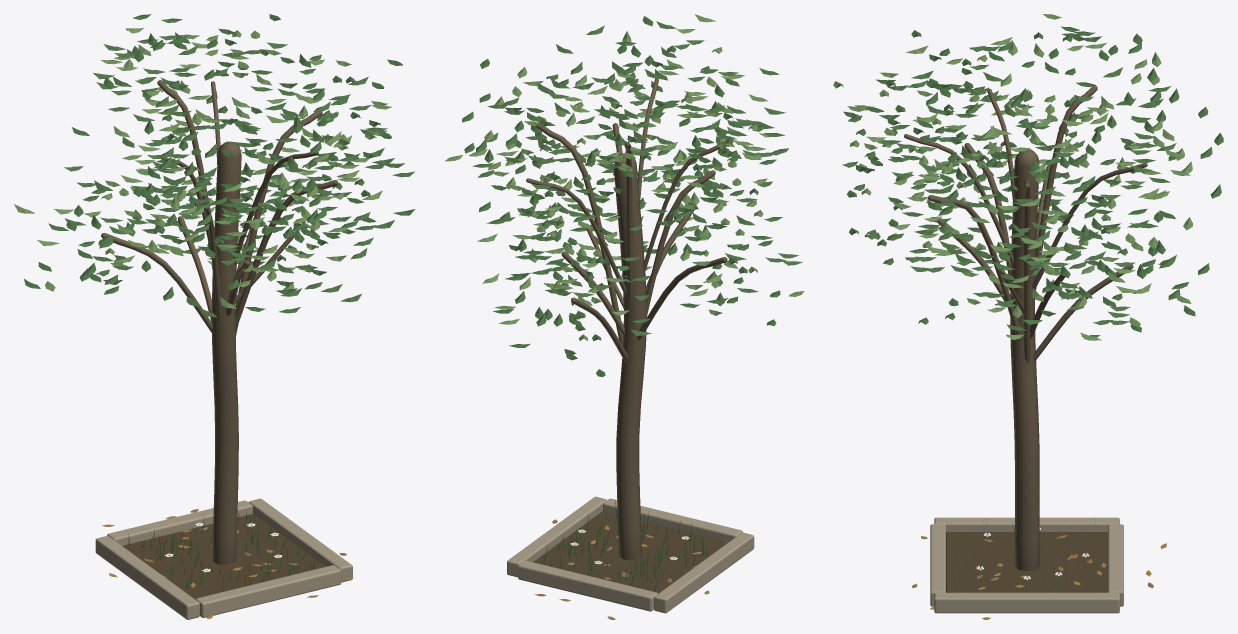
The model's file is tree_2.glb.
3 views of the same model, side by side, from view 1: azimuth 30°, elevation 25°; view 2: azimuth 150°, elevation 25°; view 3: azimuth 270°, elevation 25° (orthographic). The views are drawn at different scales.
Visible parts, largest first — view 1: Trunk, Soil, Hollow_pit_border.003, Hollow_pit_border, Hollow_pit_border.001, Hollow_pit_border.002, Tapered_branch.003, Tapered_branch, Tapered_branch.004, Tapered_branch.001, Tapered_branch.011, Tapered_branch.007 (+1 smaller); view 2: Trunk, Soil, Hollow_pit_border.002, Hollow_pit_border, Hollow_pit_border.001, Hollow_pit_border.003, Tapered_branch, Tapered_branch.001, Tapered_branch.007, Tapered_branch.010, Tapered_branch.004, Tapered_branch.009 (+2 smaller); view 3: Soil, Trunk, Hollow_pit_border.001, Hollow_pit_border, Hollow_pit_border.003, Hollow_pit_border.002, Tapered_branch, Tapered_branch.007, Tapered_branch.003, Tapered_branch.011, Tapered_branch.010, Tapered_branch.002 (+1 smaller).
Part boxes in pixels (left/top/right/bottom): Trunk: left=211, top=141, right=241, bottom=564; Soil: left=122, top=514, right=325, bottom=599; Hollow_pit_border.003: left=195, top=565, right=341, bottom=617; Hollow_pit_border: left=95, top=536, right=199, bottom=619; Hollow_pit_border.001: left=248, top=498, right=352, bottom=582; Hollow_pit_border.002: left=107, top=500, right=252, bottom=545; Tapered_branch.003: left=235, top=180, right=338, bottom=330; Tapered_branch: left=235, top=111, right=322, bottom=336; Tapered_branch.004: left=101, top=233, right=212, bottom=333; Tapered_branch.001: left=195, top=203, right=221, bottom=321; Tapered_branch.011: left=233, top=151, right=318, bottom=264; Tapered_branch.007: left=157, top=80, right=211, bottom=259; Trunk: left=614, top=153, right=646, bottom=560; Soil: left=533, top=511, right=728, bottom=593; Hollow_pit_border.002: left=518, top=560, right=657, bottom=611; Hollow_pit_border: left=654, top=532, right=754, bottom=613; Hollow_pit_border.001: left=507, top=496, right=606, bottom=577; Hollow_pit_border.003: left=603, top=498, right=742, bottom=541; Tapered_branch: left=536, top=124, right=623, bottom=345; Tapered_branch.001: left=646, top=170, right=715, bottom=317; Tapered_branch.007: left=624, top=142, right=632, bottom=302; Tapered_branch.010: left=526, top=178, right=626, bottom=295; Tapered_branch.004: left=637, top=257, right=727, bottom=339; Tapered_branch.009: left=643, top=142, right=725, bottom=274; Soil: left=946, top=532, right=1107, bottom=592; Trunk: left=1010, top=149, right=1039, bottom=571; Hollow_pit_border.001: left=934, top=592, right=1119, bottom=613; Hollow_pit_border: left=934, top=517, right=1119, bottom=532; Hollow_pit_border.003: left=930, top=524, right=945, bottom=606; Hollow_pit_border.002: left=1108, top=524, right=1123, bottom=606; Tapered_branch: left=1024, top=179, right=1030, bottom=362; Tapered_branch.007: left=1035, top=85, right=1097, bottom=290; Tapered_branch.003: left=928, top=195, right=1020, bottom=334; Tapered_branch.011: left=904, top=134, right=1013, bottom=266; Tapered_branch.010: left=1032, top=163, right=1147, bottom=291; Tapered_branch.002: left=1033, top=264, right=1133, bottom=361.
Bounding box in the file's own units: 3.06 × 4.48 × 2.99.
